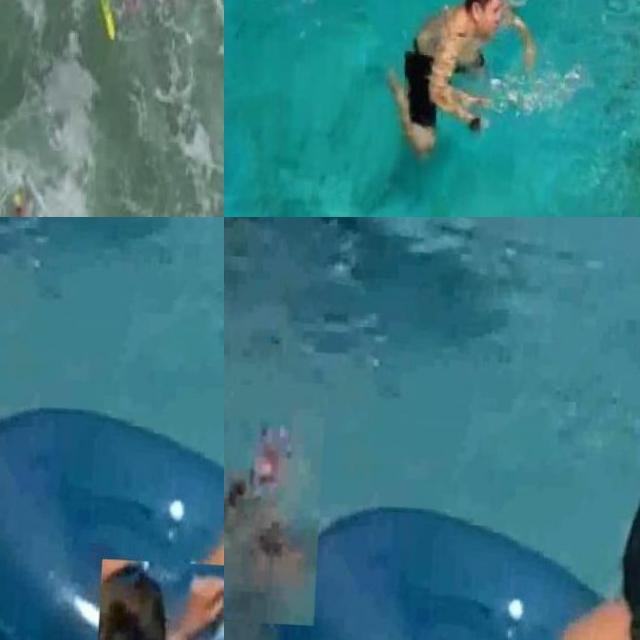drowning: (224, 377, 326, 627)
swimming: (379, 0, 550, 174), (94, 558, 224, 640), (582, 461, 640, 640)
